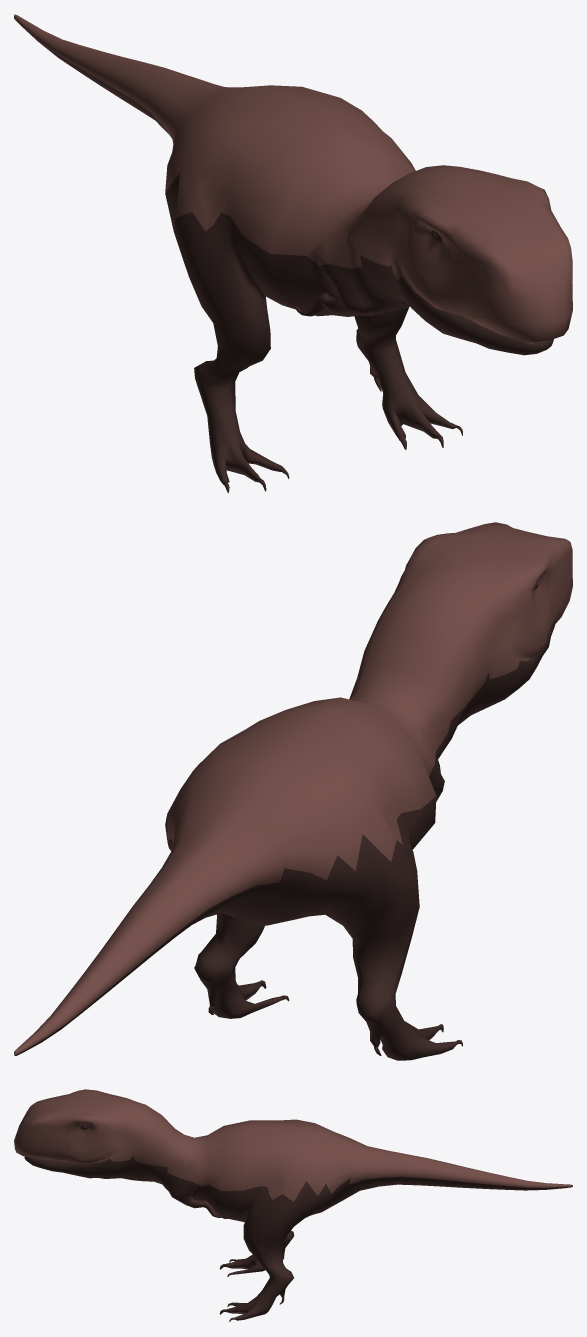
3 views of the same model, one above another, from view 1: azimuth 30°, elevation 25°; view 2: azimuth 150°, elevation 25°; view 3: azimuth 270°, elevation 25° (orthographic). The views are drawn at different scales.
Parts seen in each view (by area): view 1: dino; view 2: dino; view 3: dino.
Part boxes in pixels (box(x1,y1,x2,y2)): dino: box(14, 14, 572, 493); dino: box(14, 522, 572, 1060); dino: box(14, 1089, 572, 1321).
Size of the model in its own units: 0.1907 by 0.2847 by 0.7503.
